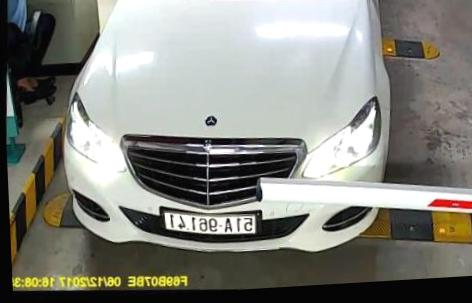License_Plate: (165, 203, 268, 240)
